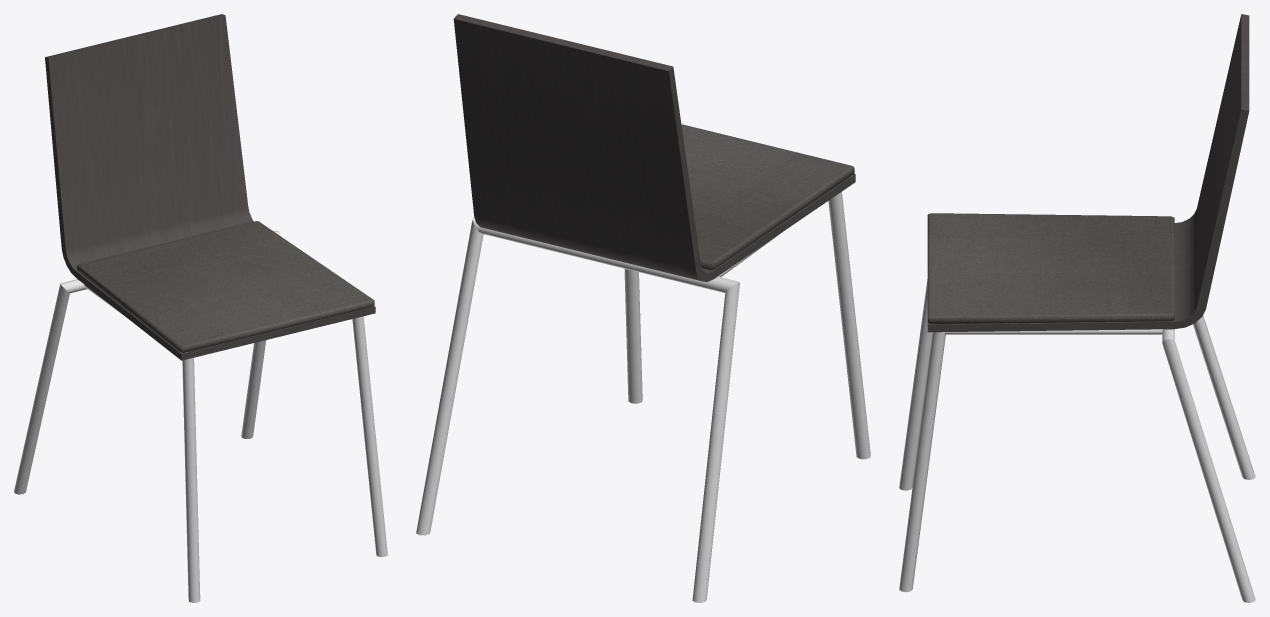
File: chair1.fbx
3 views of the same model, side by side, from view 1: azimuth 30°, elevation 25°; view 2: azimuth 150°, elevation 25°; view 3: azimuth 270°, elevation 25° (orthographic). The views are drawn at different scales.
Parts seen in each view (by area): view 1: chair; view 2: chair; view 3: chair.
Boxes of the visible parts, left/top/right/bottom form: chair: left=14, top=14, right=387, bottom=602; chair: left=416, top=14, right=870, bottom=602; chair: left=899, top=14, right=1255, bottom=602.
Bounding box in the file's own units: 45 × 77.73 × 52.69.
